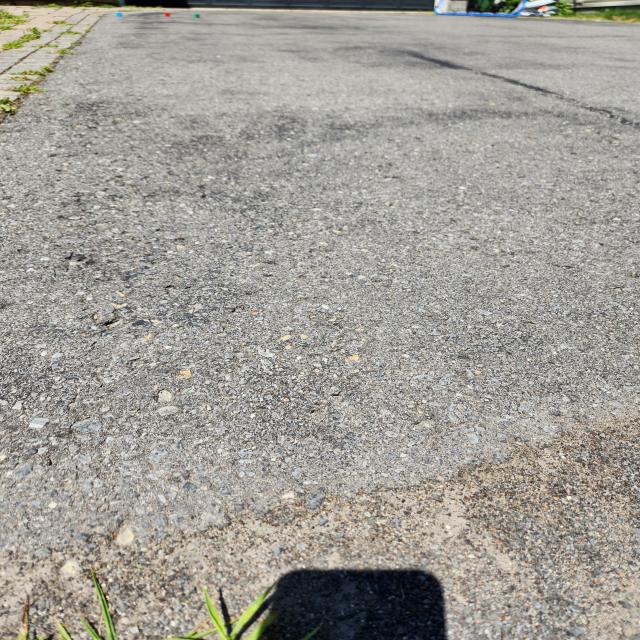bluecube: (116, 12, 122, 17)
green cube: (194, 14, 200, 18)
red cube: (164, 12, 170, 16)
